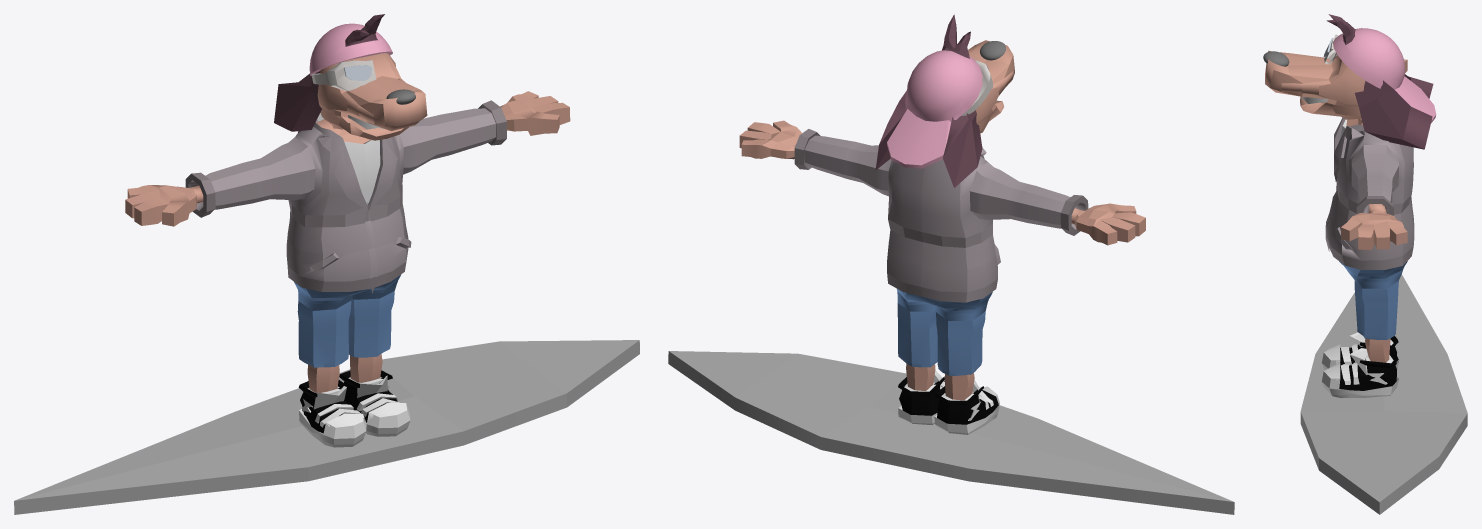
File: haiMike.fbx
3 views of the same model, side by side, from view 1: azimuth 30°, elevation 25°; view 2: azimuth 150°, elevation 25°; view 3: azimuth 270°, elevation 25° (orthographic). The views are drawn at different scales.
Visible parts, largest first — view 1: polySurface4, pPlane1, polySurface5, polySurface3, pPlane2, pCube5; view 2: polySurface4, pPlane1, polySurface3, pPlane2, polySurface5, pPlane3; view 3: pPlane1, polySurface4, polySurface5, polySurface3, pPlane3, pSphere1.
Boxes of the visible parts, <box> form: polySurface4: <box>125,91,570,447</box>; pPlane1: <box>14,340,639,514</box>; polySurface5: <box>317,53,427,140</box>; polySurface3: <box>309,14,392,76</box>; pPlane2: <box>274,71,321,131</box>; pCube5: <box>311,60,376,90</box>; polySurface4: <box>739,120,1145,434</box>; pPlane1: <box>668,351,1234,514</box>; polySurface3: <box>887,14,982,168</box>; pPlane2: <box>943,110,982,187</box>; polySurface5: <box>968,40,1014,133</box>; pPlane3: <box>875,90,906,169</box>; pPlane1: <box>1300,274,1467,514</box>; polySurface4: <box>1322,59,1414,398</box>; polySurface5: <box>1265,50,1365,119</box>; polySurface3: <box>1326,14,1436,123</box>; pPlane3: <box>1354,80,1432,149</box>; pSphere1: <box>1263,51,1289,66</box>.
Bounding box in the file's own units: 40.95 × 27.76 × 13.23.
